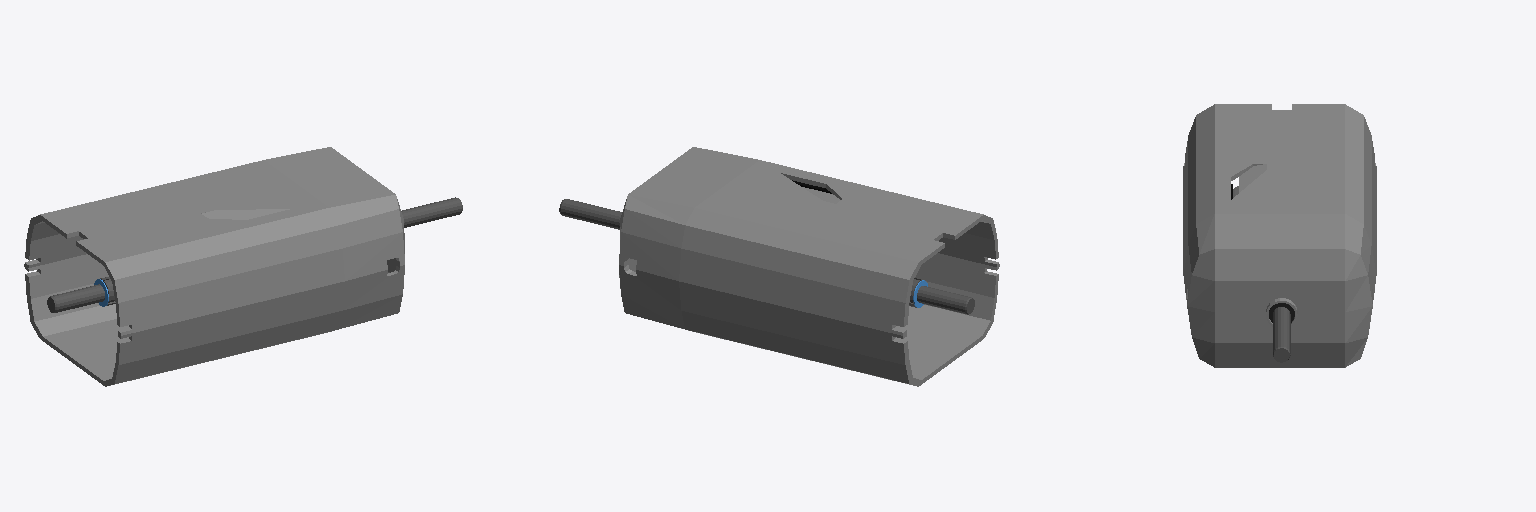
The model's file is MotorOBJ.obj.
3 views of the same model, side by side, from view 1: azimuth 30°, elevation 25°; view 2: azimuth 150°, elevation 25°; view 3: azimuth 270°, elevation 25° (orthographic).
Parts seen in each view (by area): view 1: Box009, RototrHold; view 2: Box009, RototrHold; view 3: Box009, RototrHold.
Part boxes in pixels (left/top/right/bottom): Box009: left=24, top=147, right=404, bottom=386; RototrHold: left=47, top=197, right=462, bottom=312; Box009: left=619, top=147, right=999, bottom=386; RototrHold: left=559, top=199, right=974, bottom=314; Box009: left=1183, top=104, right=1376, bottom=367; RototrHold: left=1273, top=307, right=1290, bottom=362.
Size of the model in its own units: 95.71 by 27.93 by 39.27.